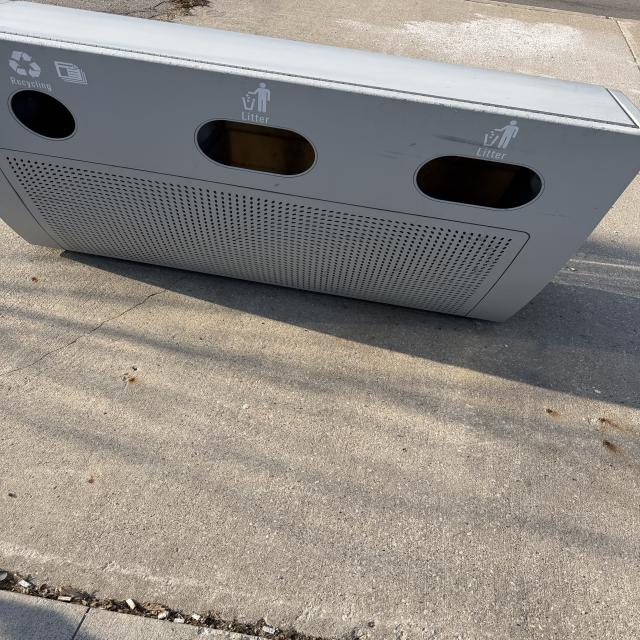Dustbin: (1, 0, 640, 324)
